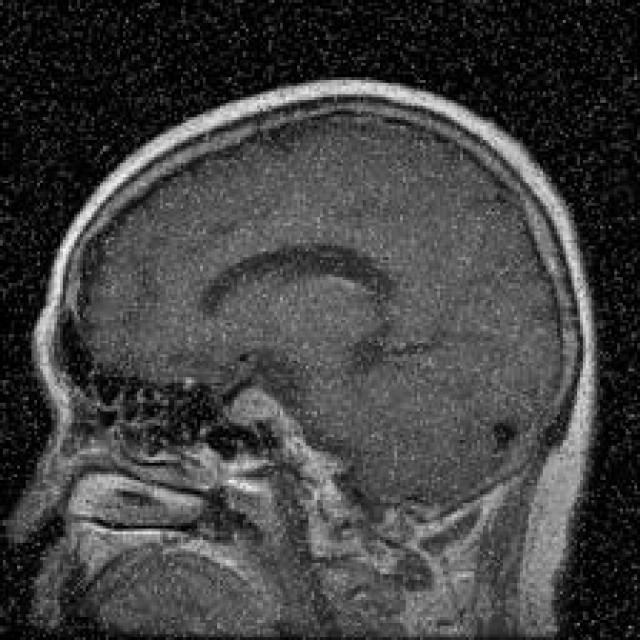pituitary_tumor: (219, 363, 336, 469)
